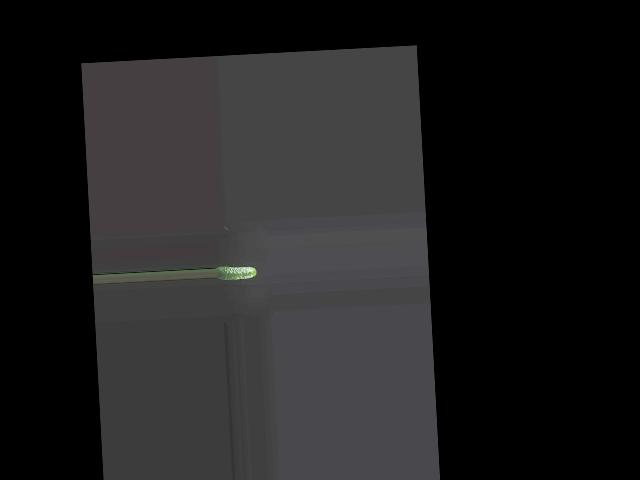cucumber: (214, 263, 256, 280)
